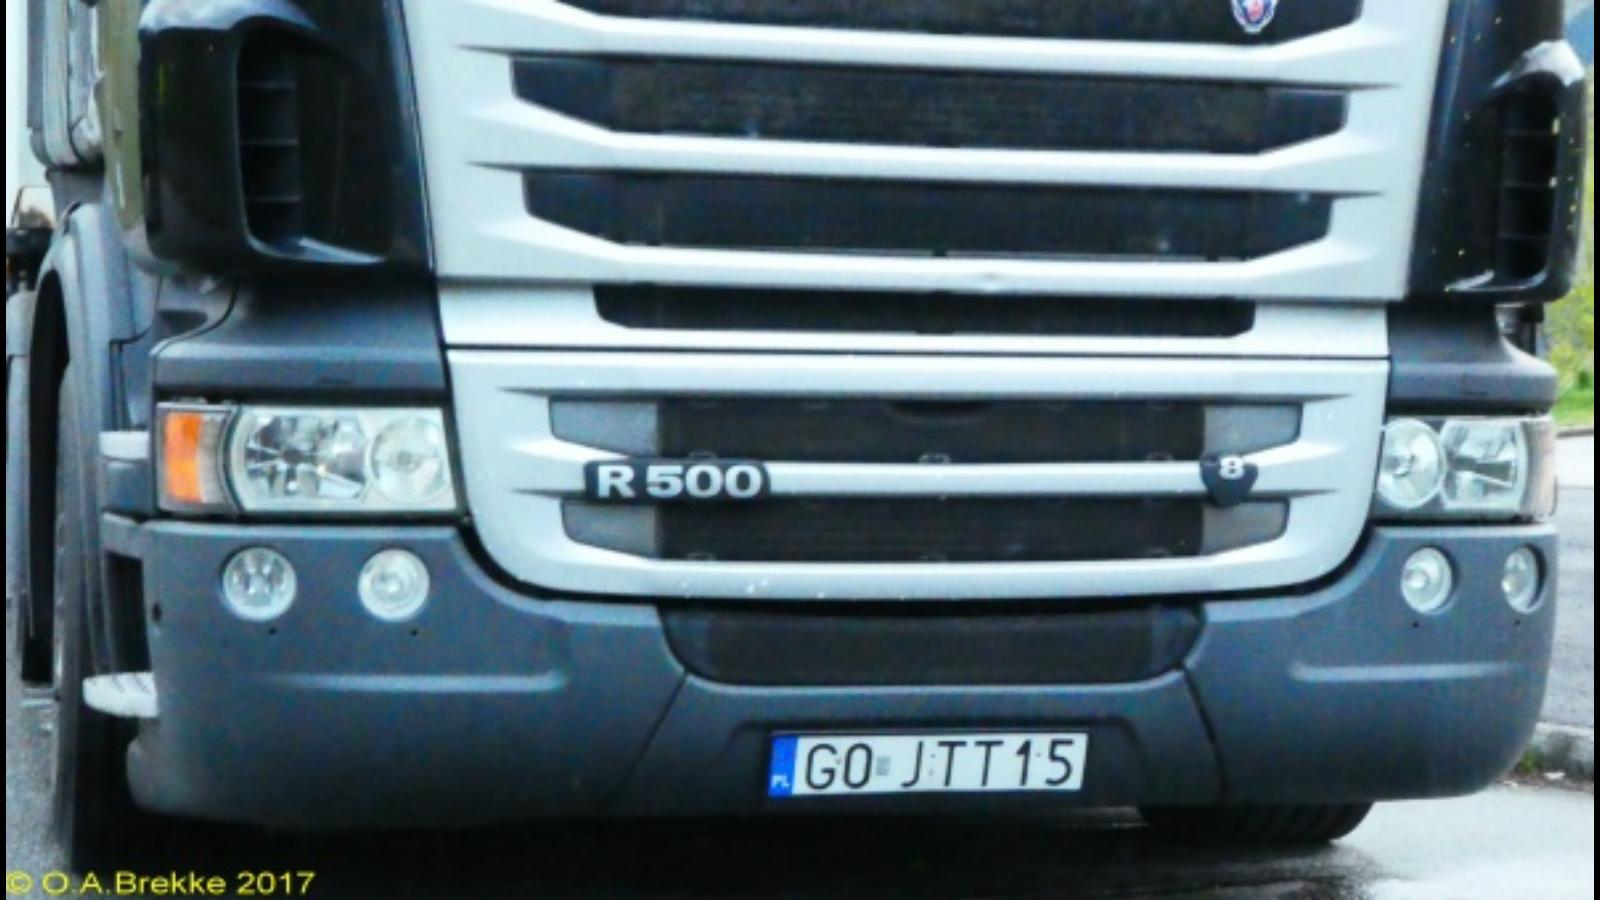plates: (764, 730, 1092, 800)
